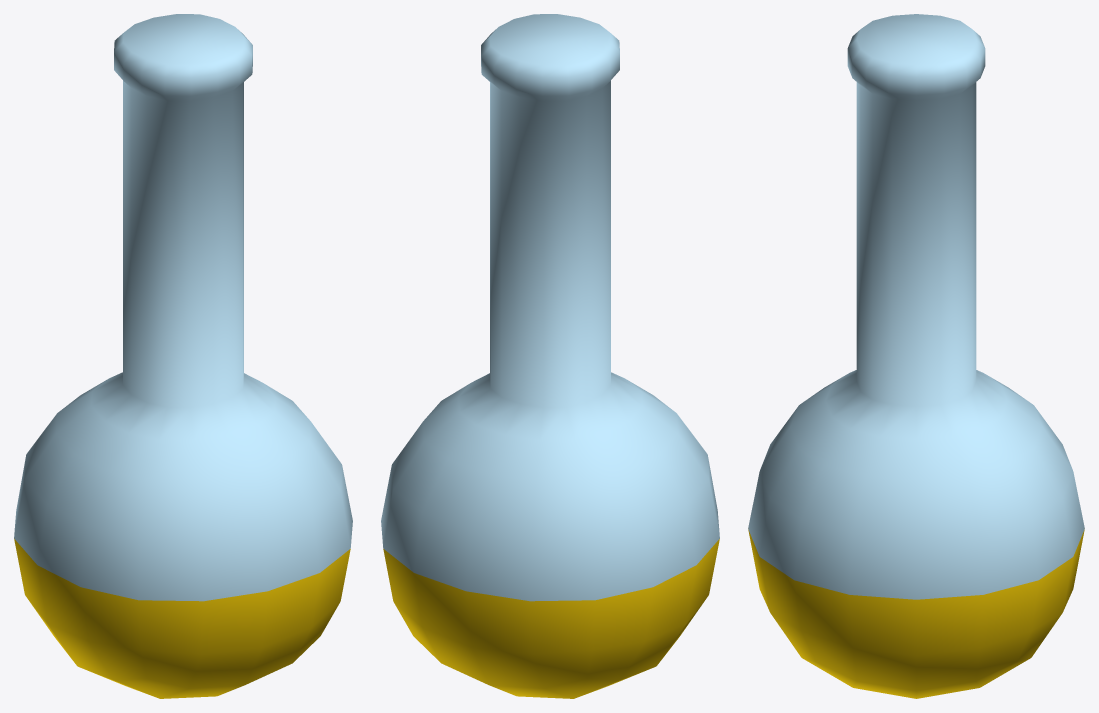
File: Yellow KJELDAHL Flask .fbx
3 views of the same model, side by side, from view 1: azimuth 30°, elevation 25°; view 2: azimuth 150°, elevation 25°; view 3: azimuth 270°, elevation 25° (orthographic).
Parts seen in each view (by area): view 1: Yellow KJELDAHL Flask; view 2: Yellow KJELDAHL Flask; view 3: Yellow KJELDAHL Flask.
Part boxes in pixels (left/top/right/bottom): Yellow KJELDAHL Flask: left=14, top=14, right=352, bottom=698; Yellow KJELDAHL Flask: left=381, top=14, right=719, bottom=698; Yellow KJELDAHL Flask: left=748, top=14, right=1084, bottom=698.
Size of the model in its own units: 13.44 by 28.27 by 13.44.
